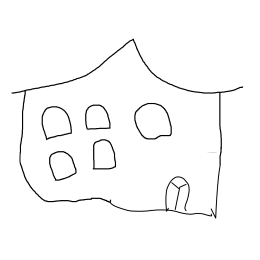door: (162, 170, 197, 218)
open_window: (130, 99, 178, 143), (33, 102, 78, 142), (46, 143, 79, 187), (79, 100, 114, 136), (88, 135, 120, 174)
single_line_roof: (9, 26, 249, 100)
wall: (13, 96, 227, 224)
